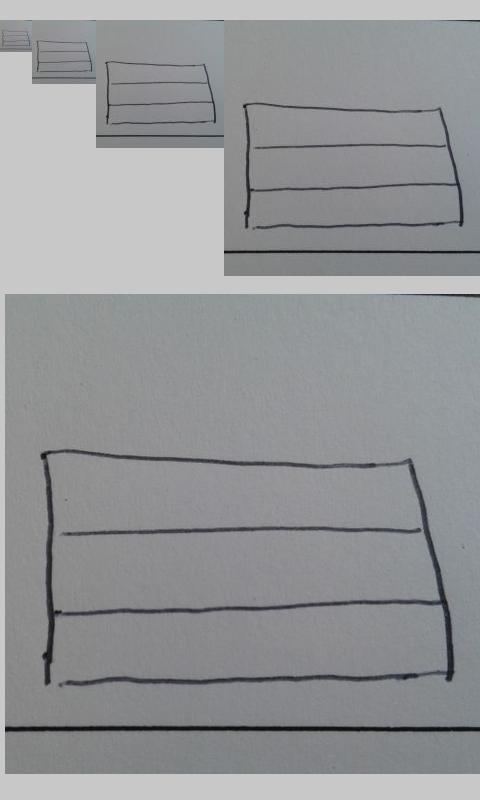list_view: (35, 444, 457, 694), (242, 100, 466, 232), (104, 60, 216, 126), (36, 39, 93, 73), (1, 29, 31, 47)
